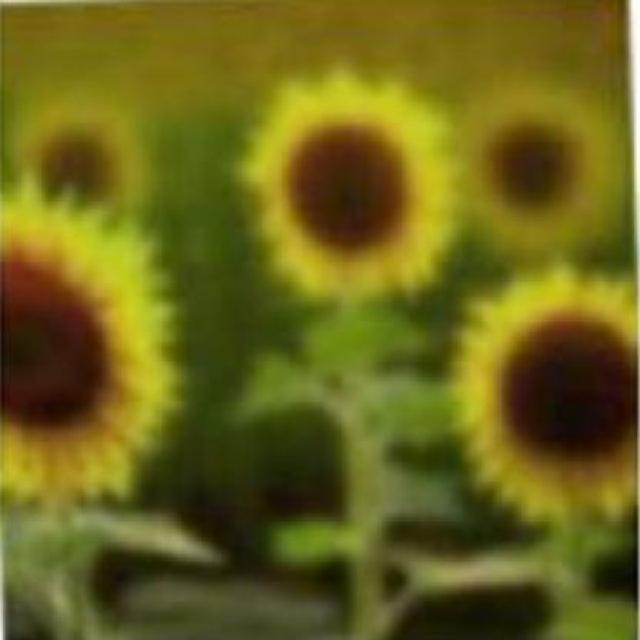sunflower: (0, 190, 172, 518), (454, 270, 640, 525), (242, 79, 458, 295)
